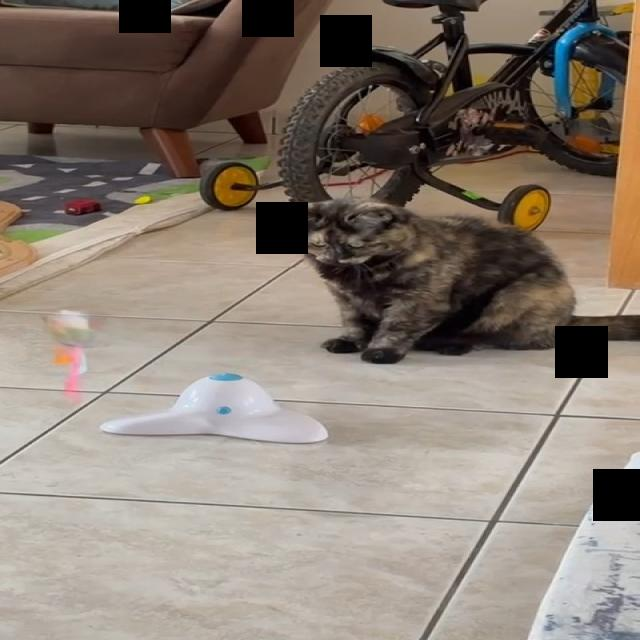authorized: (282, 196, 638, 364)
